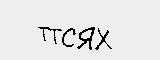С: (59, 24, 76, 51)
Т: (38, 22, 50, 46), (50, 22, 61, 48)
Х: (94, 26, 113, 53)
Я: (77, 22, 95, 54)
